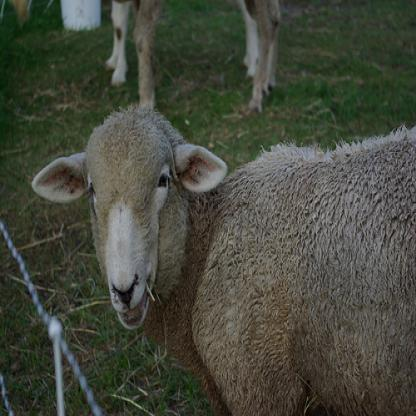sheep: (30, 104, 415, 414)
